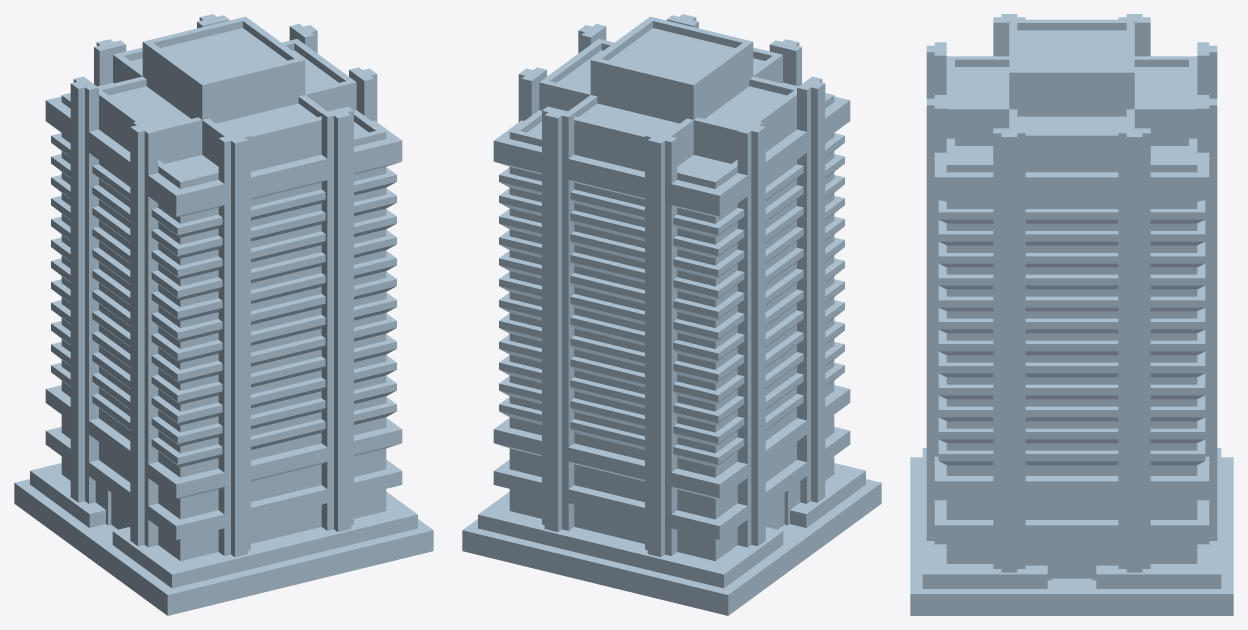
File: Heavy_Commercial1.fbx
The picture shows the model from 3 angles, left to right: view 1: azimuth 30°, elevation 25°; view 2: azimuth 150°, elevation 25°; view 3: azimuth 270°, elevation 25°; orthographic projection. The views are drawn at different scales.
Parts seen in each view (by area): view 1: Heavy_Commercal_1; view 2: Heavy_Commercal_1; view 3: Heavy_Commercal_1.
Part boxes in pixels (<box>): Heavy_Commercal_1: <box>14,14,433,615</box>; Heavy_Commercal_1: <box>462,14,881,615</box>; Heavy_Commercal_1: <box>910,14,1233,615</box>.
Size of the model in its own units: 4000 by 6850 by 4000.
